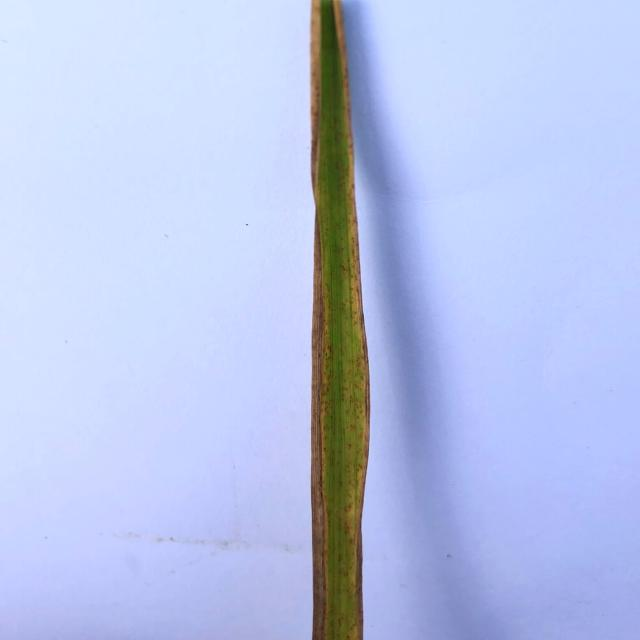tungro: (333, 0, 374, 640), (310, 0, 325, 381)
